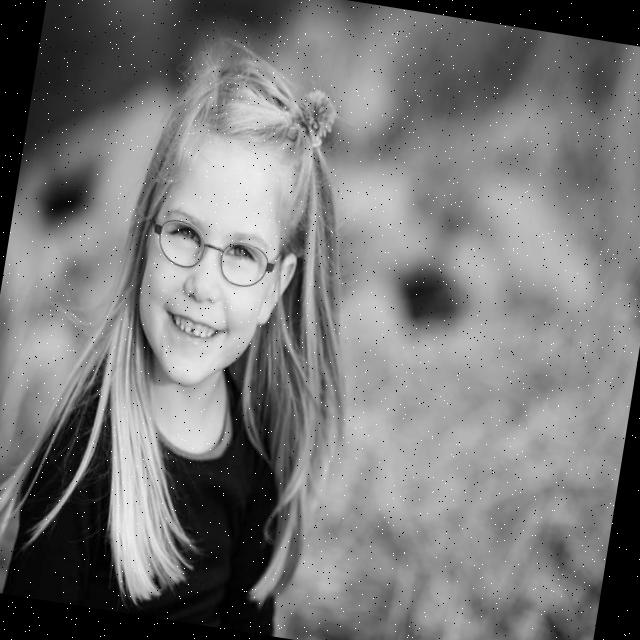Happiness: (118, 122, 315, 404)
